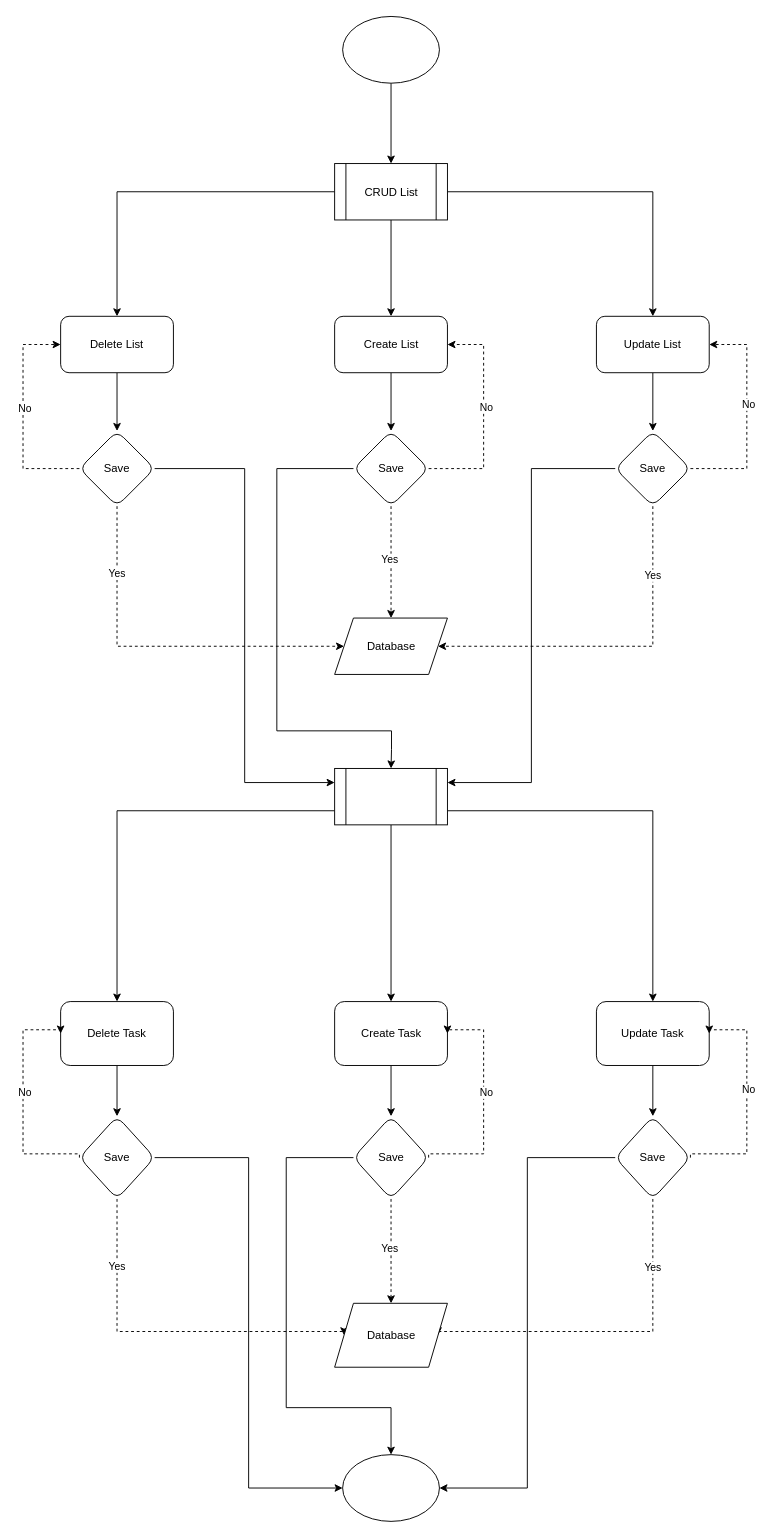
This 771x1538 diagram has some shape labels left out. Here are the shapes that lost their labels. From the top down, the centre of each, then its label:
the point at 390,49: Start
the point at 390,796: CRUD Task
the point at 390,1487: End
